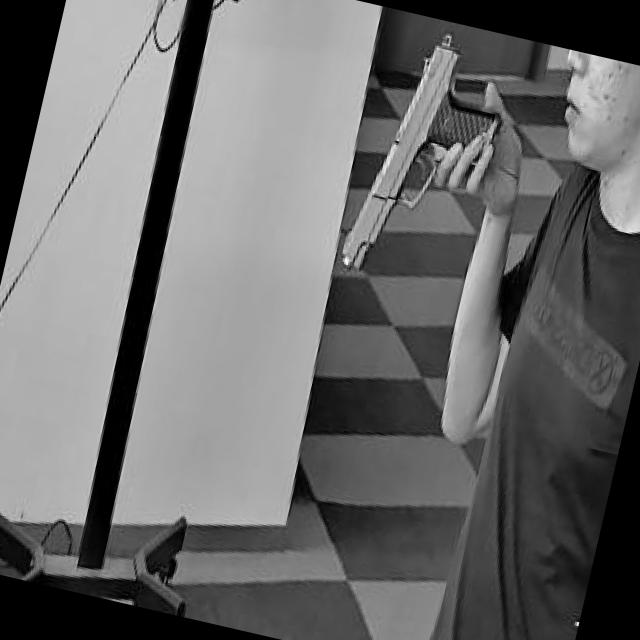Guns: (313, 10, 532, 321)
